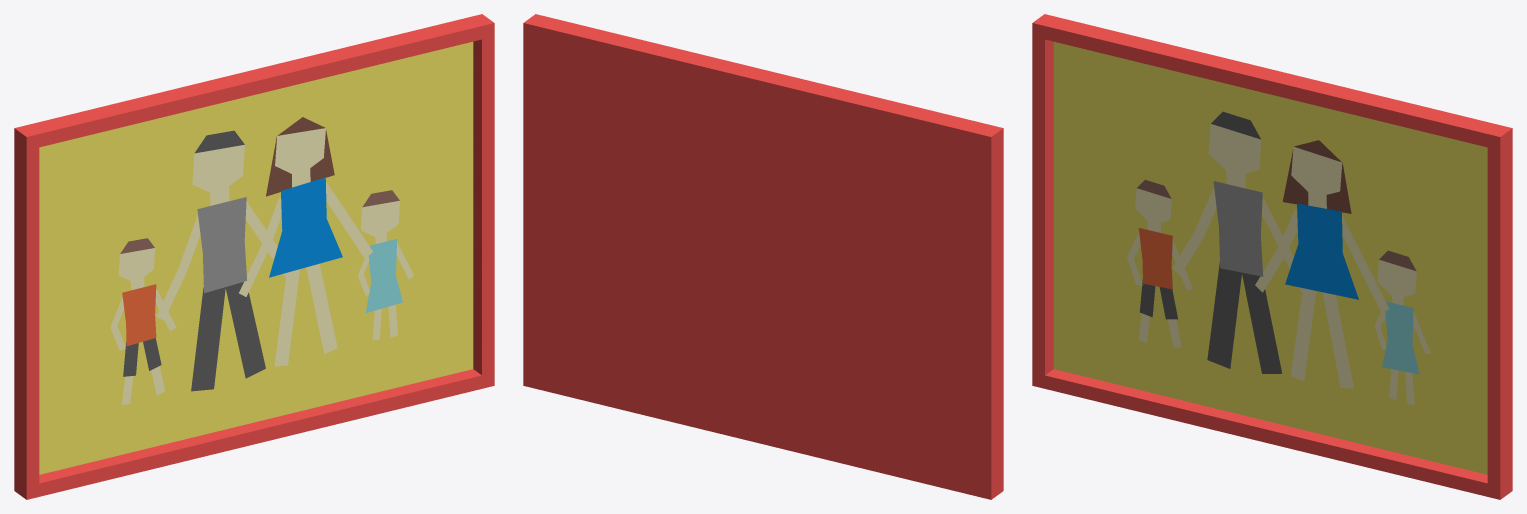
The model's file is picture_031.glb.
The picture shows the model from 3 angles, left to right: view 1: azimuth 30°, elevation 25°; view 2: azimuth 150°, elevation 25°; view 3: azimuth 330°, elevation 25°; orthographic projection.
Parts seen in each view (by area): view 1: picture_031; view 2: picture_031; view 3: picture_031.
Part boxes in pixels (x1,y1,x2,y2): picture_031: [14, 14, 494, 499]; picture_031: [523, 14, 1003, 499]; picture_031: [1032, 14, 1512, 499].
Bounding box in the file's own units: 0.5715 × 0.4235 × 0.0259.
1 material, 1 textured.
